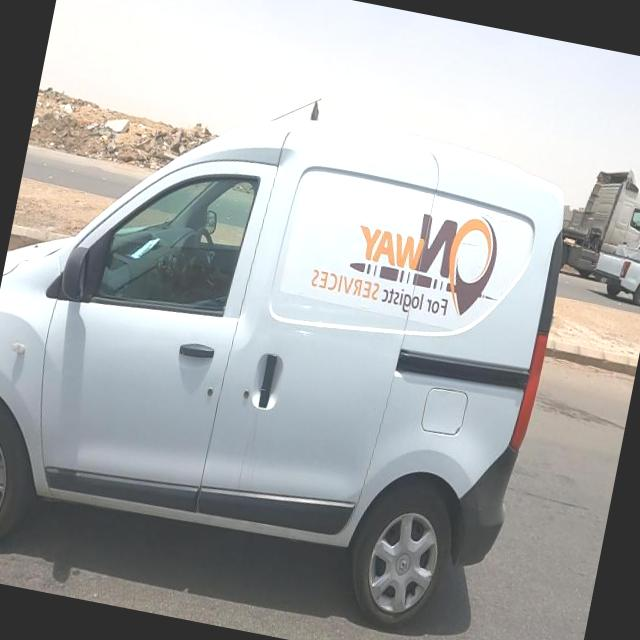debris: (72, 74, 170, 189), (30, 62, 109, 150)
